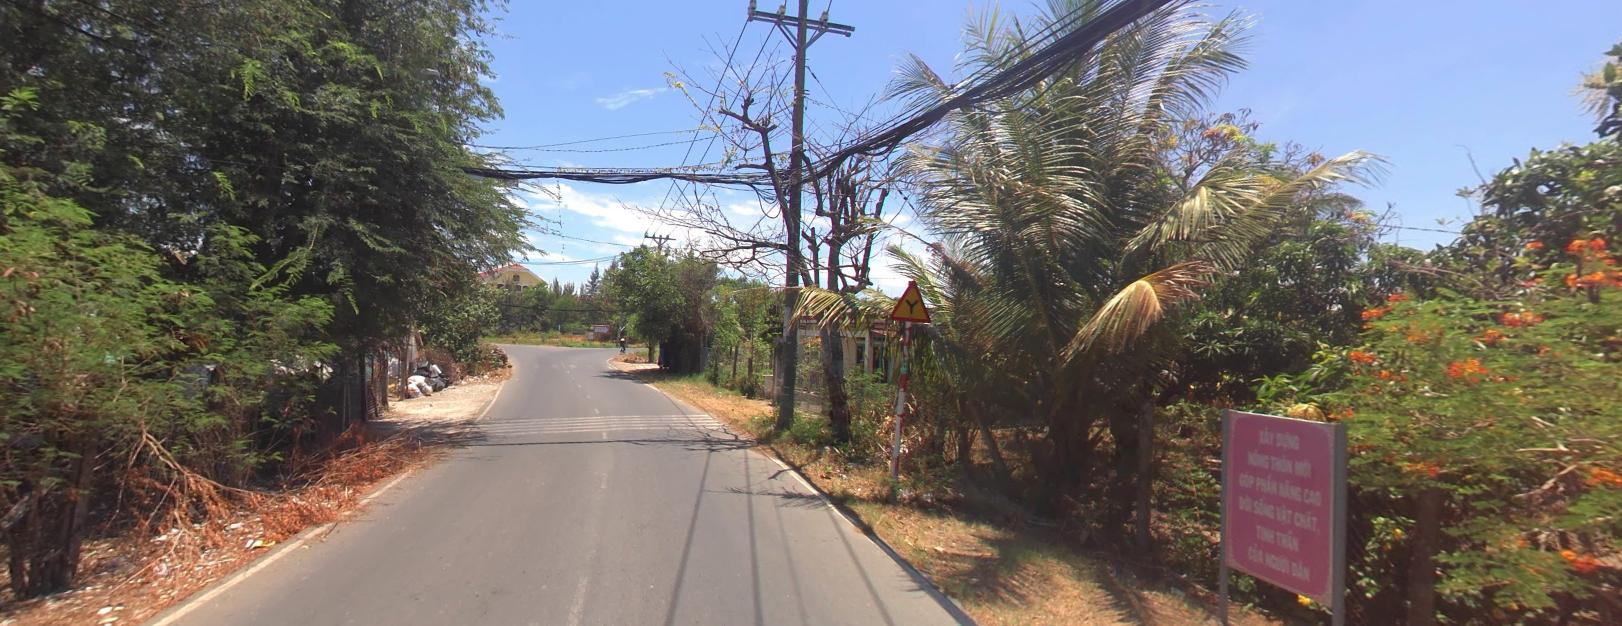Nguy hiem: (887, 279, 929, 321)
